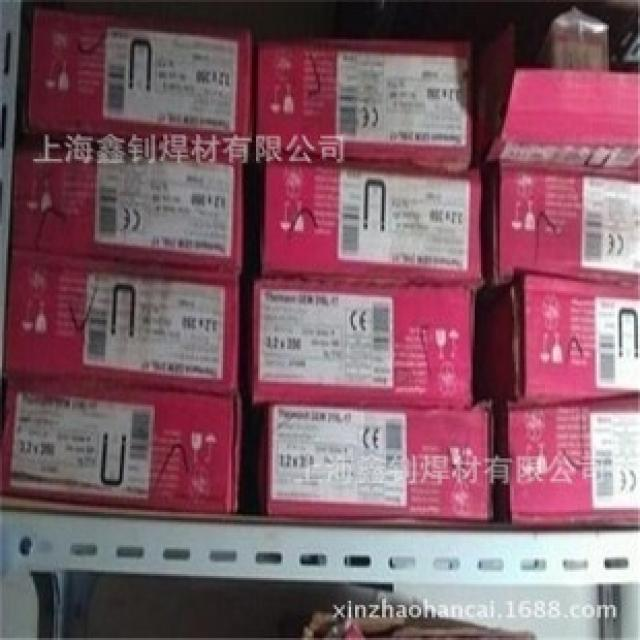box: (0, 376, 242, 514), (23, 4, 252, 149), (6, 250, 239, 392), (10, 138, 244, 277), (252, 275, 475, 409), (254, 35, 475, 167), (260, 157, 481, 287), (260, 405, 493, 522), (471, 21, 640, 165), (473, 273, 640, 405), (477, 159, 640, 287), (491, 398, 640, 526)
